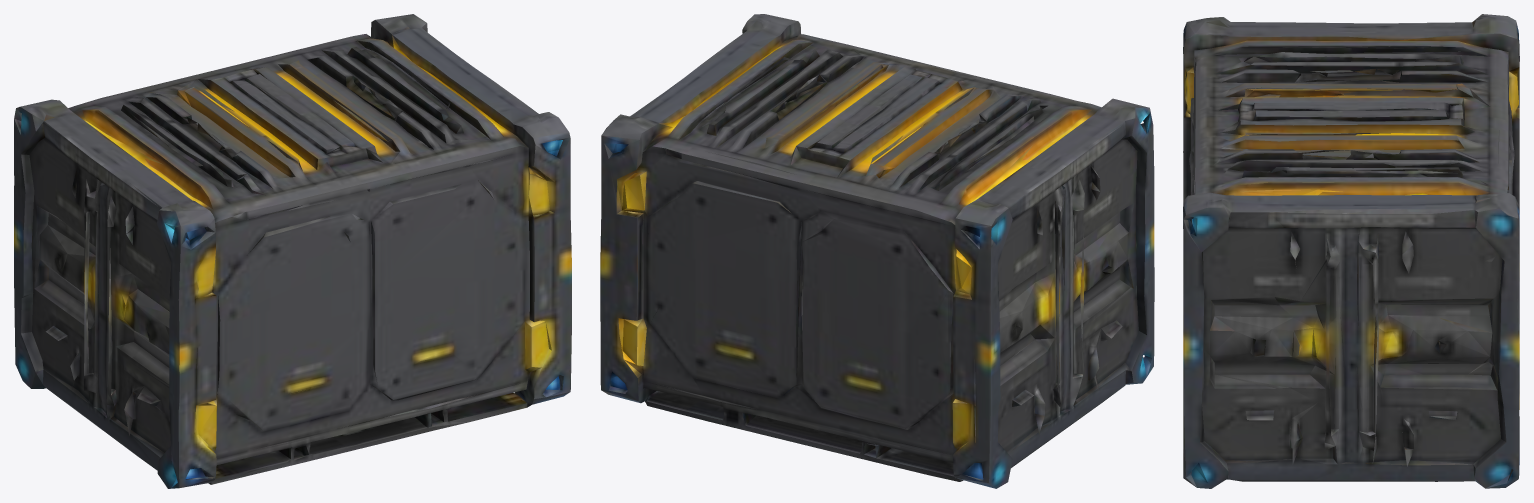
The model's file is cargo_scifi_crate.glb.
3 renders of one model, left to right at view 1: azimuth 30°, elevation 25°; view 2: azimuth 150°, elevation 25°; view 3: azimuth 270°, elevation 25°, orthographic. The views are drawn at different scales.
Visible parts, largest first — view 1: turn; view 2: turn; view 3: turn.
Boxes of the visible parts, x1,y1,x2,y2 form: turn: [14, 14, 571, 488]; turn: [600, 14, 1154, 488]; turn: [1183, 14, 1519, 488].
Bounding box in the file's own units: 1.76 × 1.2 × 1.28.
1 material, 1 textured.
